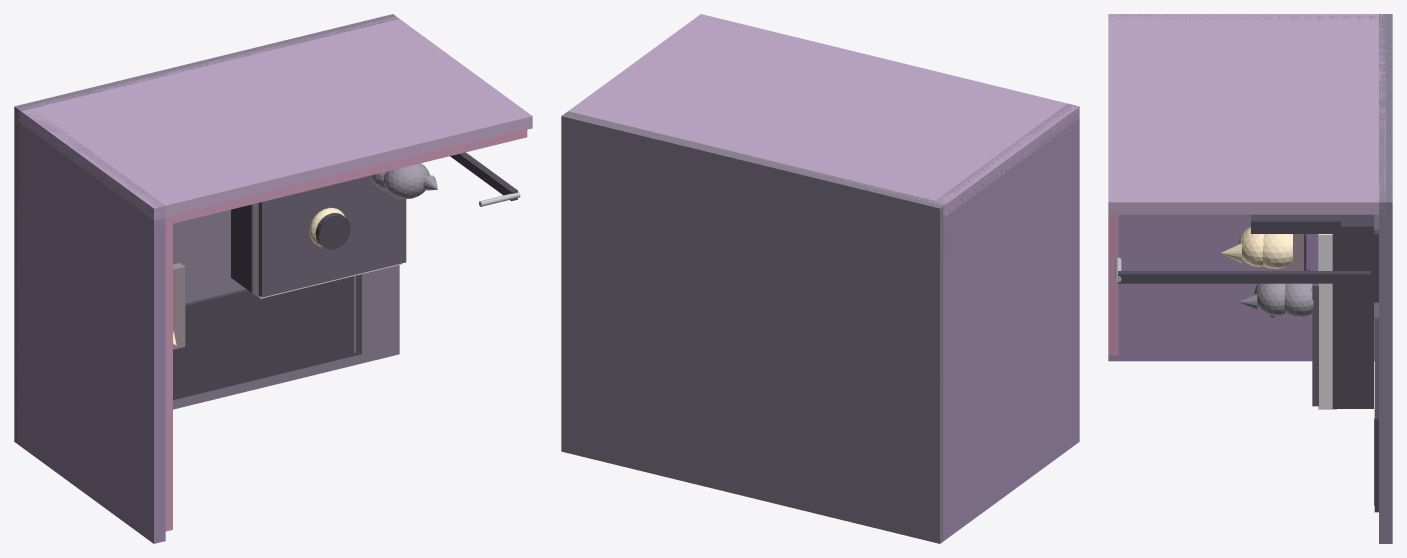
The model's file is Jenny_room_environment.glb.
The picture shows the model from 3 angles, left to right: view 1: azimuth 30°, elevation 25°; view 2: azimuth 150°, elevation 25°; view 3: azimuth 270°, elevation 25°; orthographic projection.
Visible parts, largest first — view 1: Back wall, Left wall, Rug, Floor, Dark bedspread, Ceiling trim, Left trim, Bed base, Plush head, Desk top, Ceiling light base, Curtain fold (+1 smaller); view 2: Floor, Back wall, Left wall; view 3: Back wall, Left wall, Bed base, Floor, Curtain fold, Mattress, Headboard, Left trim, Cat lamp body, Rug, Plush body, Plush head (+5 smaller).
Part boxes in pixels (left/top/right/bottom): Back wall: left=17, top=17, right=532, bottom=220; Left wall: left=17, top=109, right=165, bottom=543; Rug: left=173, top=274, right=361, bottom=399; Floor: left=14, top=14, right=399, bottom=444; Dark bedspread: left=258, top=175, right=406, bottom=297; Ceiling trim: left=159, top=128, right=527, bottom=226; Left trim: left=165, top=224, right=172, bottom=531; Bed base: left=231, top=204, right=252, bottom=292; Plush head: left=383, top=163, right=429, bottom=199; Desk top: left=173, top=263, right=185, bottom=349; Ceiling light base: left=315, top=213, right=350, bottom=249; Curtain fold: left=450, top=152, right=517, bottom=201; Floor: left=561, top=111, right=945, bottom=543; Back wall: left=568, top=14, right=1079, bottom=217; Left wall: left=933, top=103, right=1079, bottom=541; Back wall: left=1108, top=14, right=1385, bottom=214; Left wall: left=1108, top=14, right=1385, bottom=361; Bed base: left=1332, top=214, right=1373, bottom=408; Floor: left=1379, top=14, right=1392, bottom=543; Curtain fold: left=1118, top=271, right=1370, bottom=283; Mattress: left=1318, top=234, right=1336, bottom=409; Headboard: left=1251, top=214, right=1340, bottom=233; Left trim: left=1108, top=219, right=1118, bottom=355; Cat lamp body: left=1262, top=234, right=1292, bottom=269; Rug: left=1374, top=318, right=1378, bottom=512; Plush body: left=1284, top=283, right=1313, bottom=317; Plush head: left=1254, top=283, right=1285, bottom=316.
Size of the model in its own units: 5.2 by 4.4 by 3.32.
